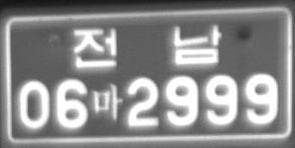0: (18, 79, 50, 128)
2: (127, 76, 158, 127)
6: (54, 79, 88, 128)
9: (244, 72, 279, 123), (205, 73, 239, 125), (165, 74, 198, 126)
마: (92, 82, 123, 120)
전남_D: (73, 24, 223, 68)
